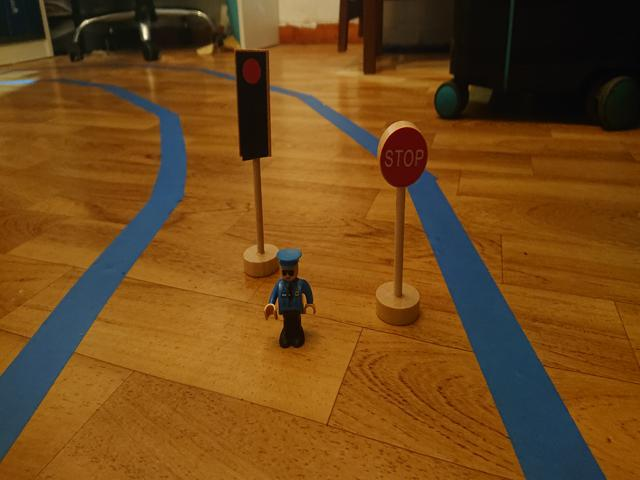person: (258, 249, 317, 351)
red light: (238, 50, 269, 155)
stop sign: (378, 127, 427, 186)
